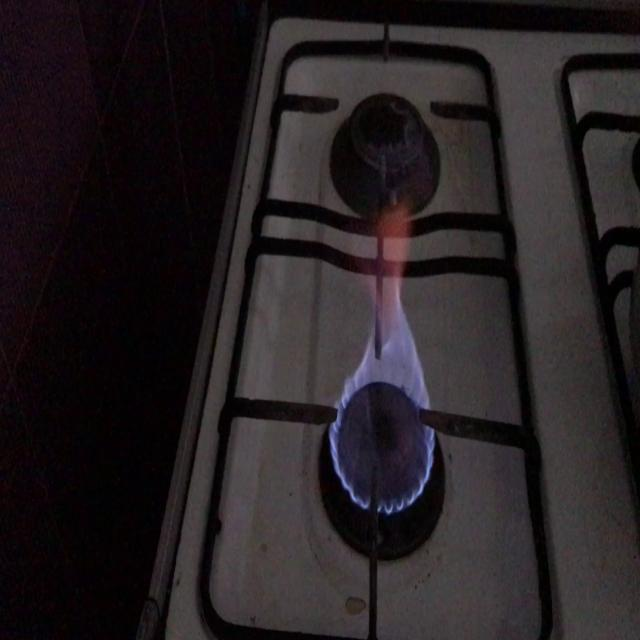fire: (324, 281, 436, 509)
